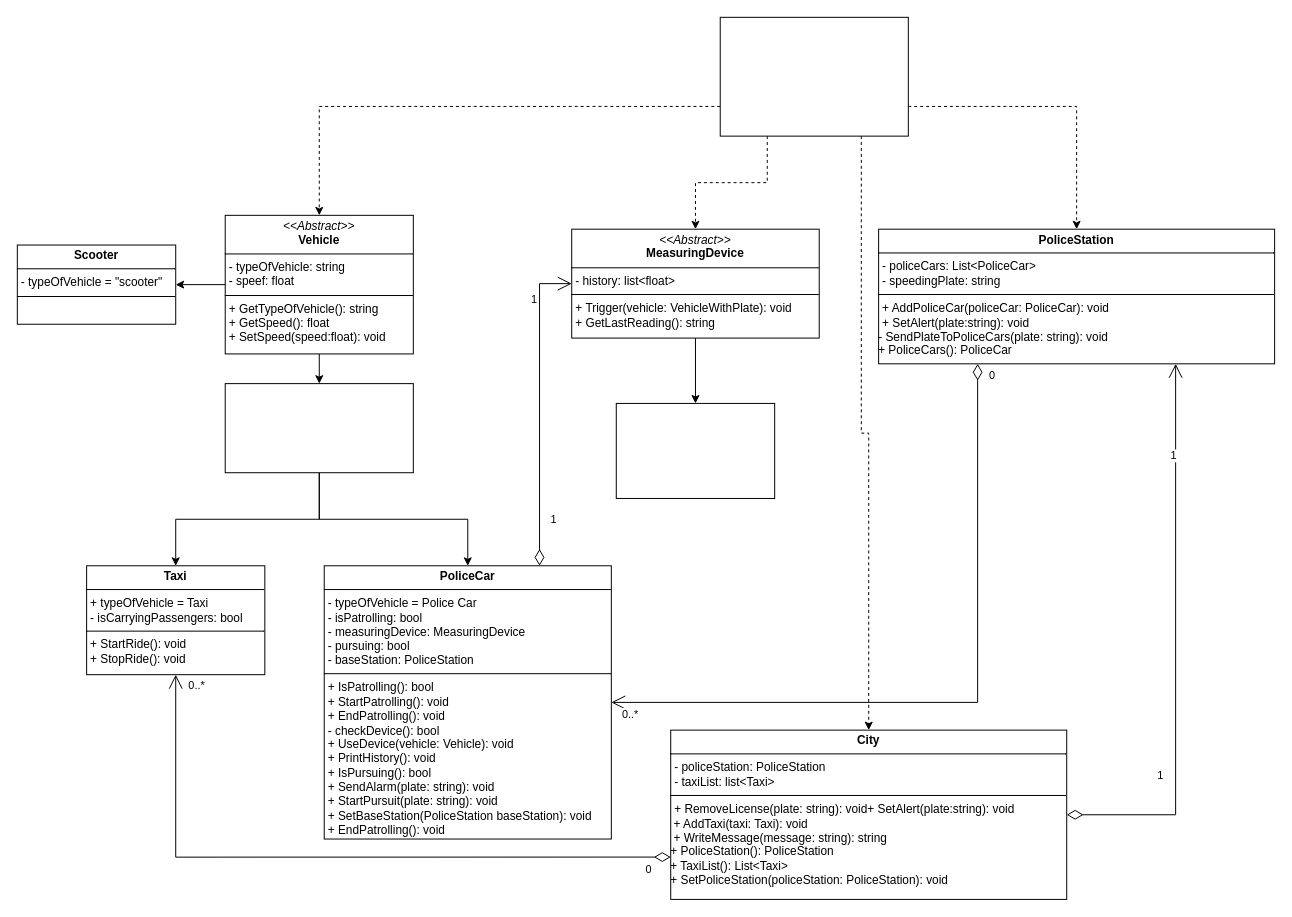
Some shapes in this 1292 by 917 pixel diagram are drawn without their labels. The shapes that lost their labels are listed below. From the top down, each one's centre as x and y in pixels, then its label:
point (813, 76): <<Interface>> IMessageWritter + WriteMessage(message:string): string
point (318, 428): <<Abstract>> VehicleWithPlate - plate: string + GetPlate(): string
point (695, 450): SpeedRadar - plate: string - speedingPlate: string - legalSpeed: float
